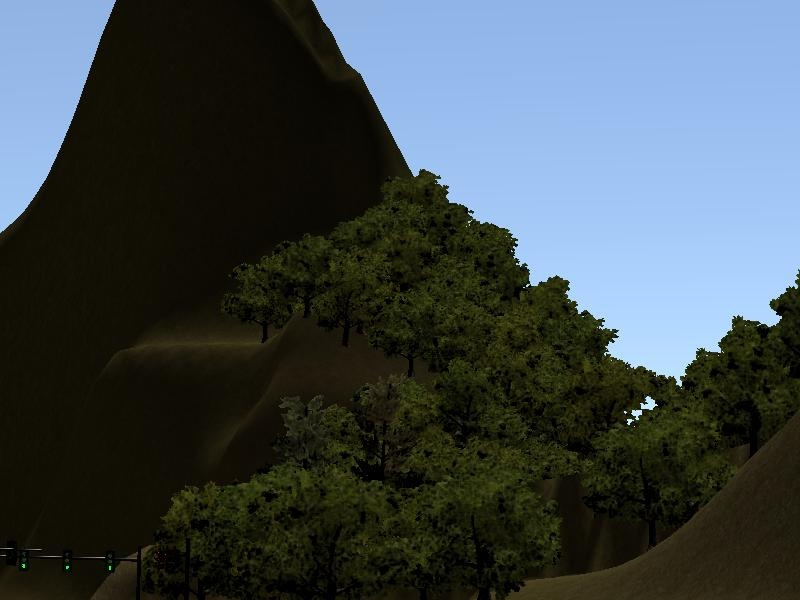GREEN: (56, 540, 77, 576), (101, 540, 119, 580), (17, 537, 32, 573)
